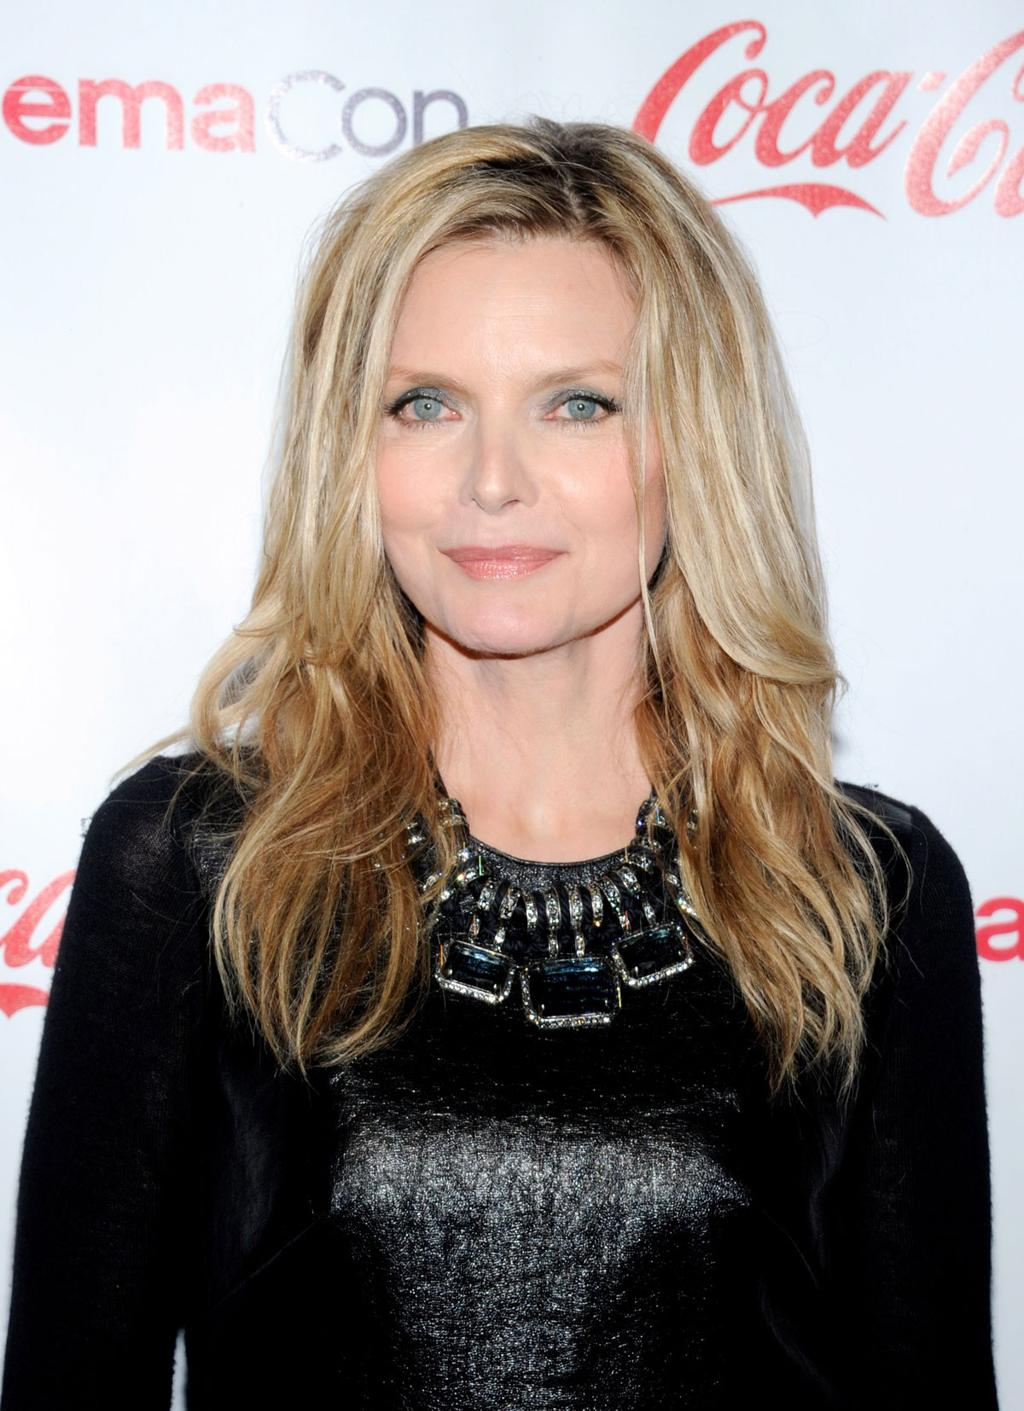face: (369, 220, 675, 658)
